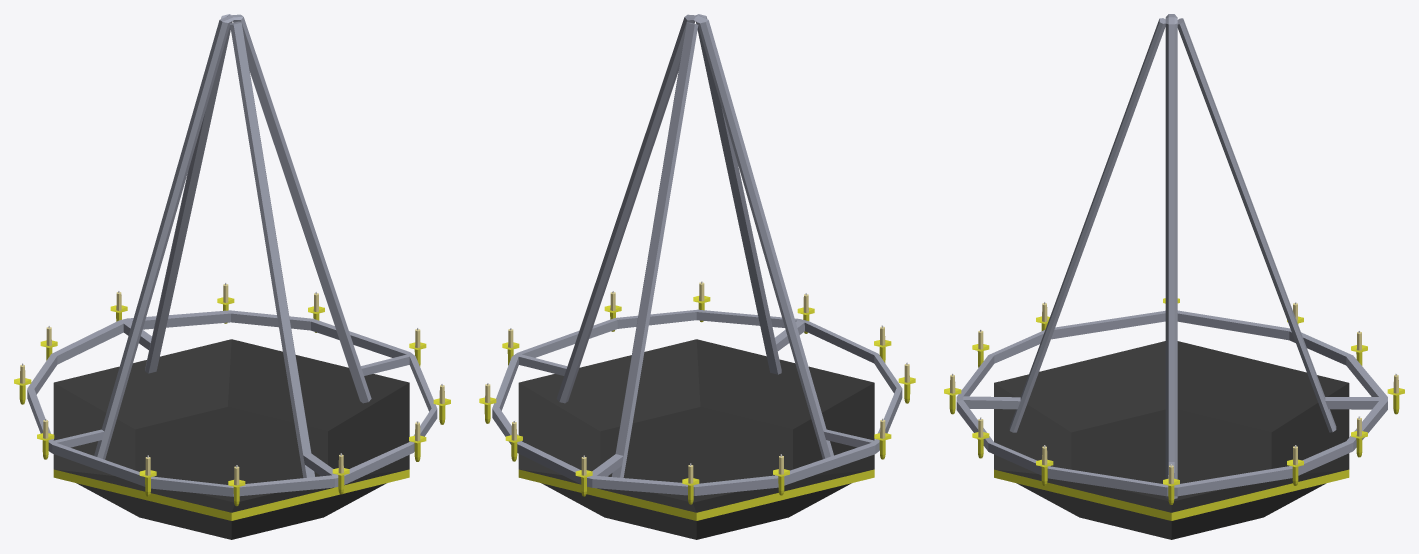
The model's file is Model_zyrandol.fbx.
3 views of the same model, side by side, from view 1: azimuth 30°, elevation 25°; view 2: azimuth 150°, elevation 25°; view 3: azimuth 270°, elevation 25° (orthographic).
Parts seen in each view (by area): view 1: Mesh_zyrandol; view 2: Mesh_zyrandol; view 3: Mesh_zyrandol.
Part boxes in pixels (x1,y1,x2,y2): Mesh_zyrandol: [14, 14, 450, 539]; Mesh_zyrandol: [479, 14, 915, 539]; Mesh_zyrandol: [944, 14, 1404, 539].
Size of the model in its own units: 132 by 151 by 129.
